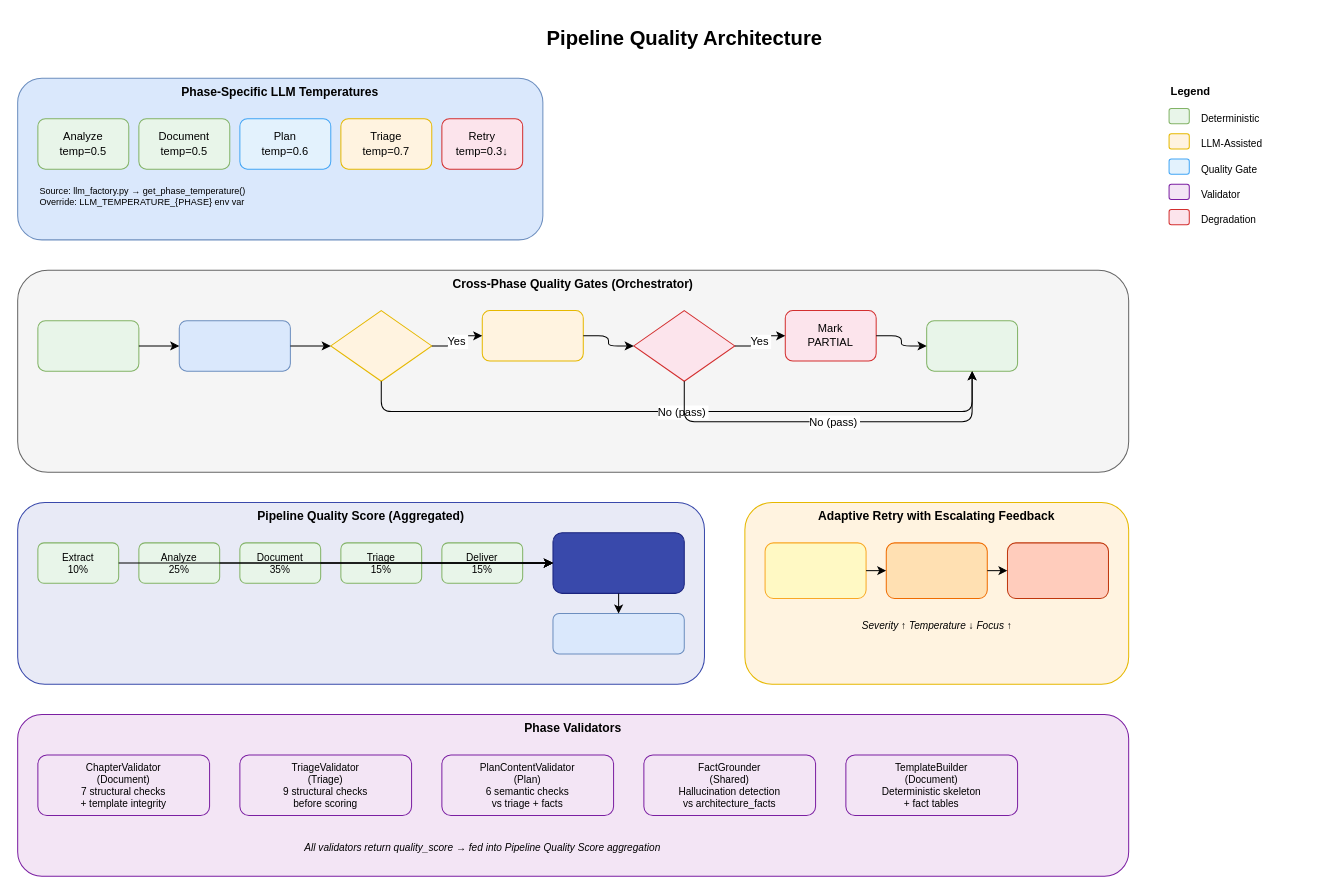
Some shapes in this 1318 by 894 pixel diagram are drawn without their labels. The centre of each missing label's shape, as x and y in pixels:
Attempt 1 "Please fix..." temp=0.30: (x=815, y=570)
Attempt 2 "CRITICAL..." temp=0.25: (x=936, y=570)
Attempt 3 "FINAL..." temp=0.20: (x=1057, y=570)
Execute Phase: (x=88, y=345)
Extract quality_score: (x=234, y=345)
Log to MLflow: (x=972, y=345)
MLflow Metric + Dashboard Badge: (x=618, y=633)
Pipeline Quality Score (0-100): (x=618, y=562)
Retry Phase (once): (x=532, y=335)
score < 50?: (x=684, y=345)
score < 70?: (x=381, y=345)
